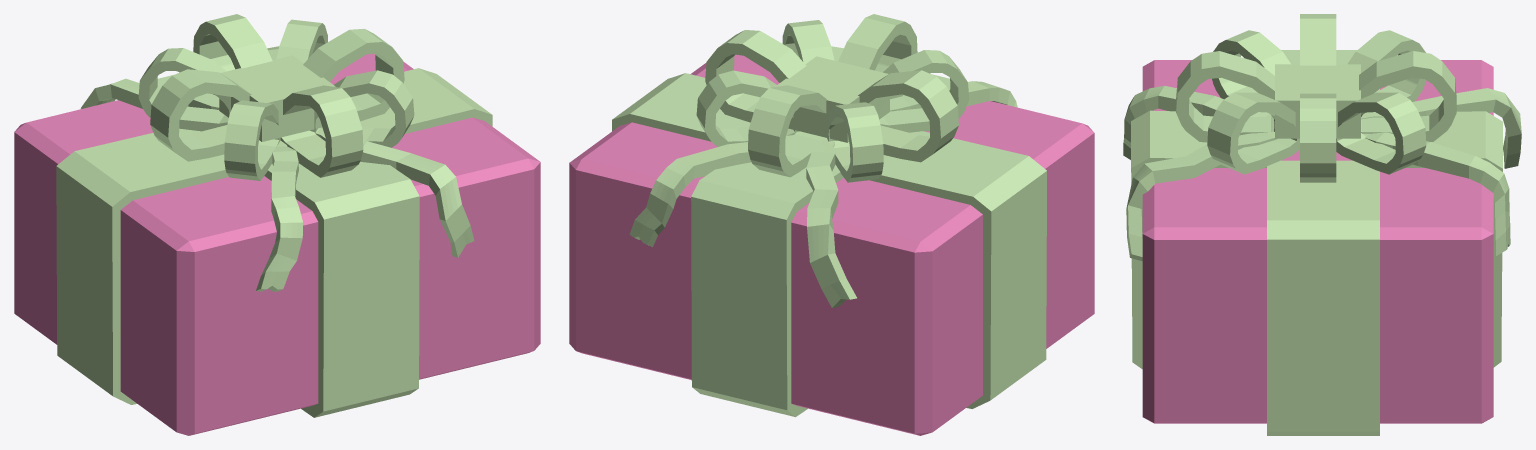
Rendered from paket.fbx.
3 renders of one model, left to right at view 1: azimuth 30°, elevation 25°; view 2: azimuth 150°, elevation 25°; view 3: azimuth 270°, elevation 25°, orthographic.
Visible parts, largest first — view 1: ribbon, box; view 2: ribbon, box; view 3: ribbon, box.
Boxes of the visible parts, x1,y1,x2,y2 form: ribbon: (56, 14, 492, 417); box: (14, 53, 540, 435); ribbon: (612, 14, 1046, 417); box: (569, 54, 1094, 435); ribbon: (1123, 14, 1521, 435); box: (1142, 60, 1493, 423).
Size of the model in its own units: 317 by 232 by 285.
